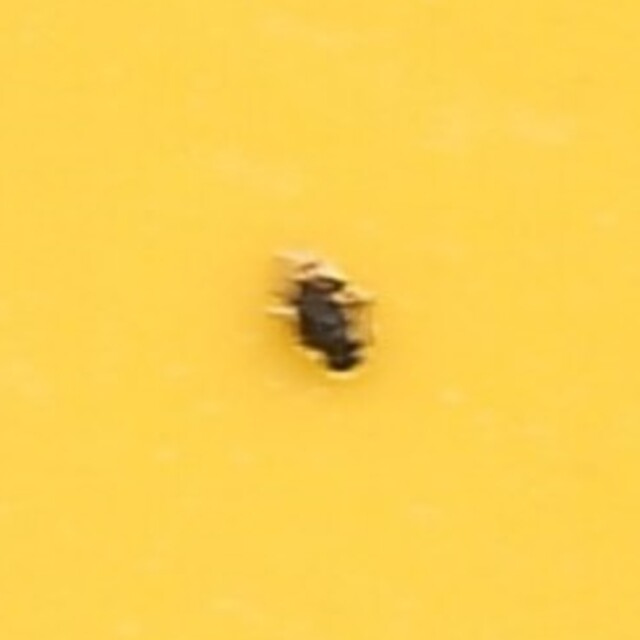Brachycera: (261, 253, 379, 387)
